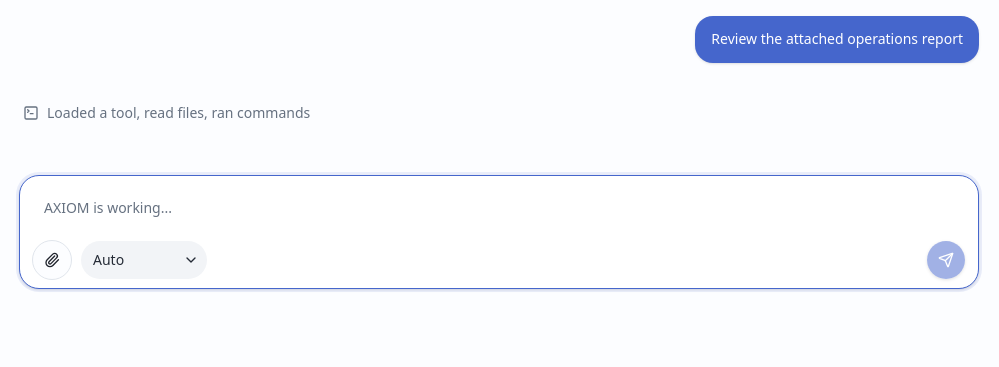
Test: ChatPage › summarizes actions and keeps each marker row compact
Expected: the text "Loaded a tool, read files, ran commands" is shown, [47, 103, 310, 123]
Click the button "Loaded a tool, read files, ran commands" at (179, 112), box [23, 99, 975, 127]
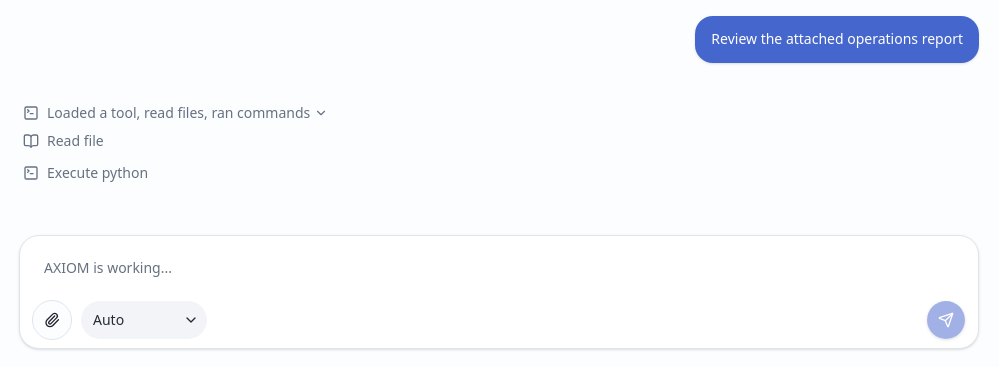
Now the button "Read file" is shown, box [23, 127, 975, 155]
Now the button "Execute python" is shown, box [23, 159, 975, 187]
